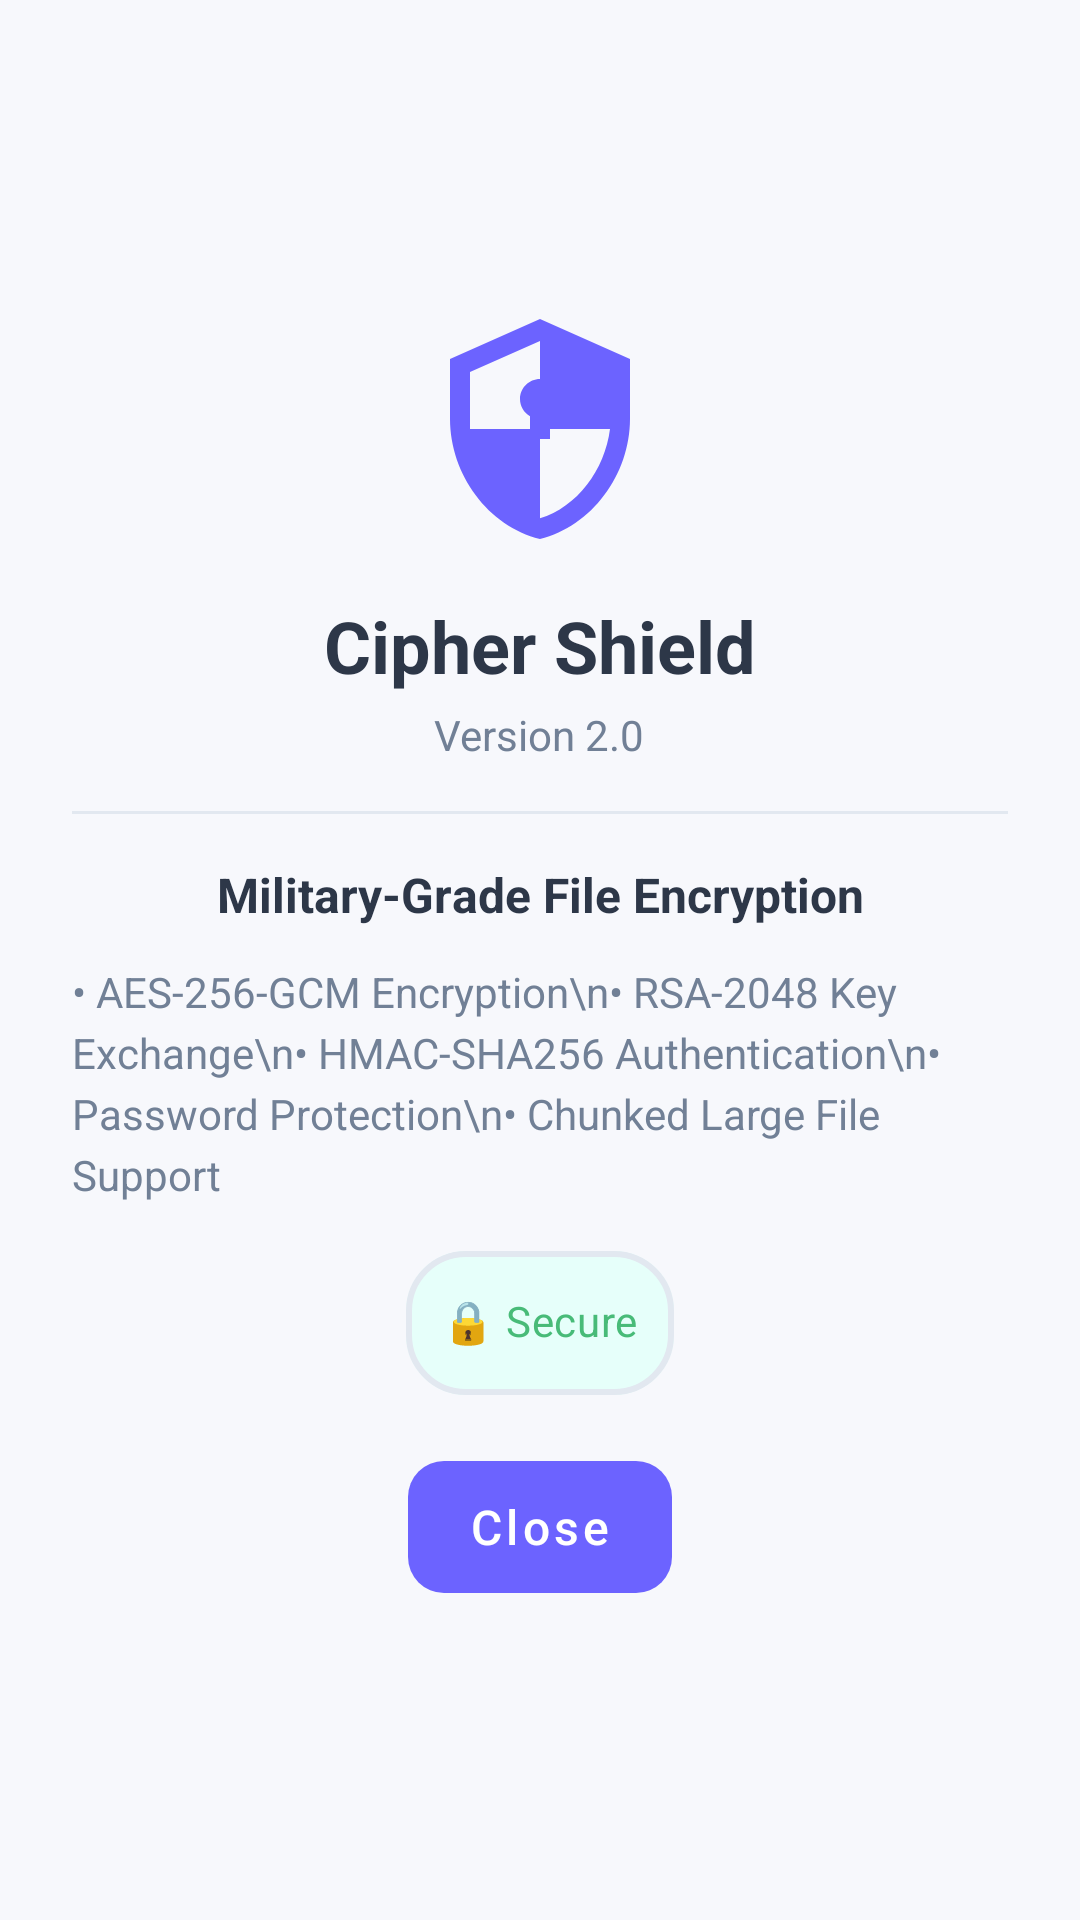

Screen size 1080px x 1920px. Icon name, then its center in pixels as (x,y):
shield lock: (540,429)
